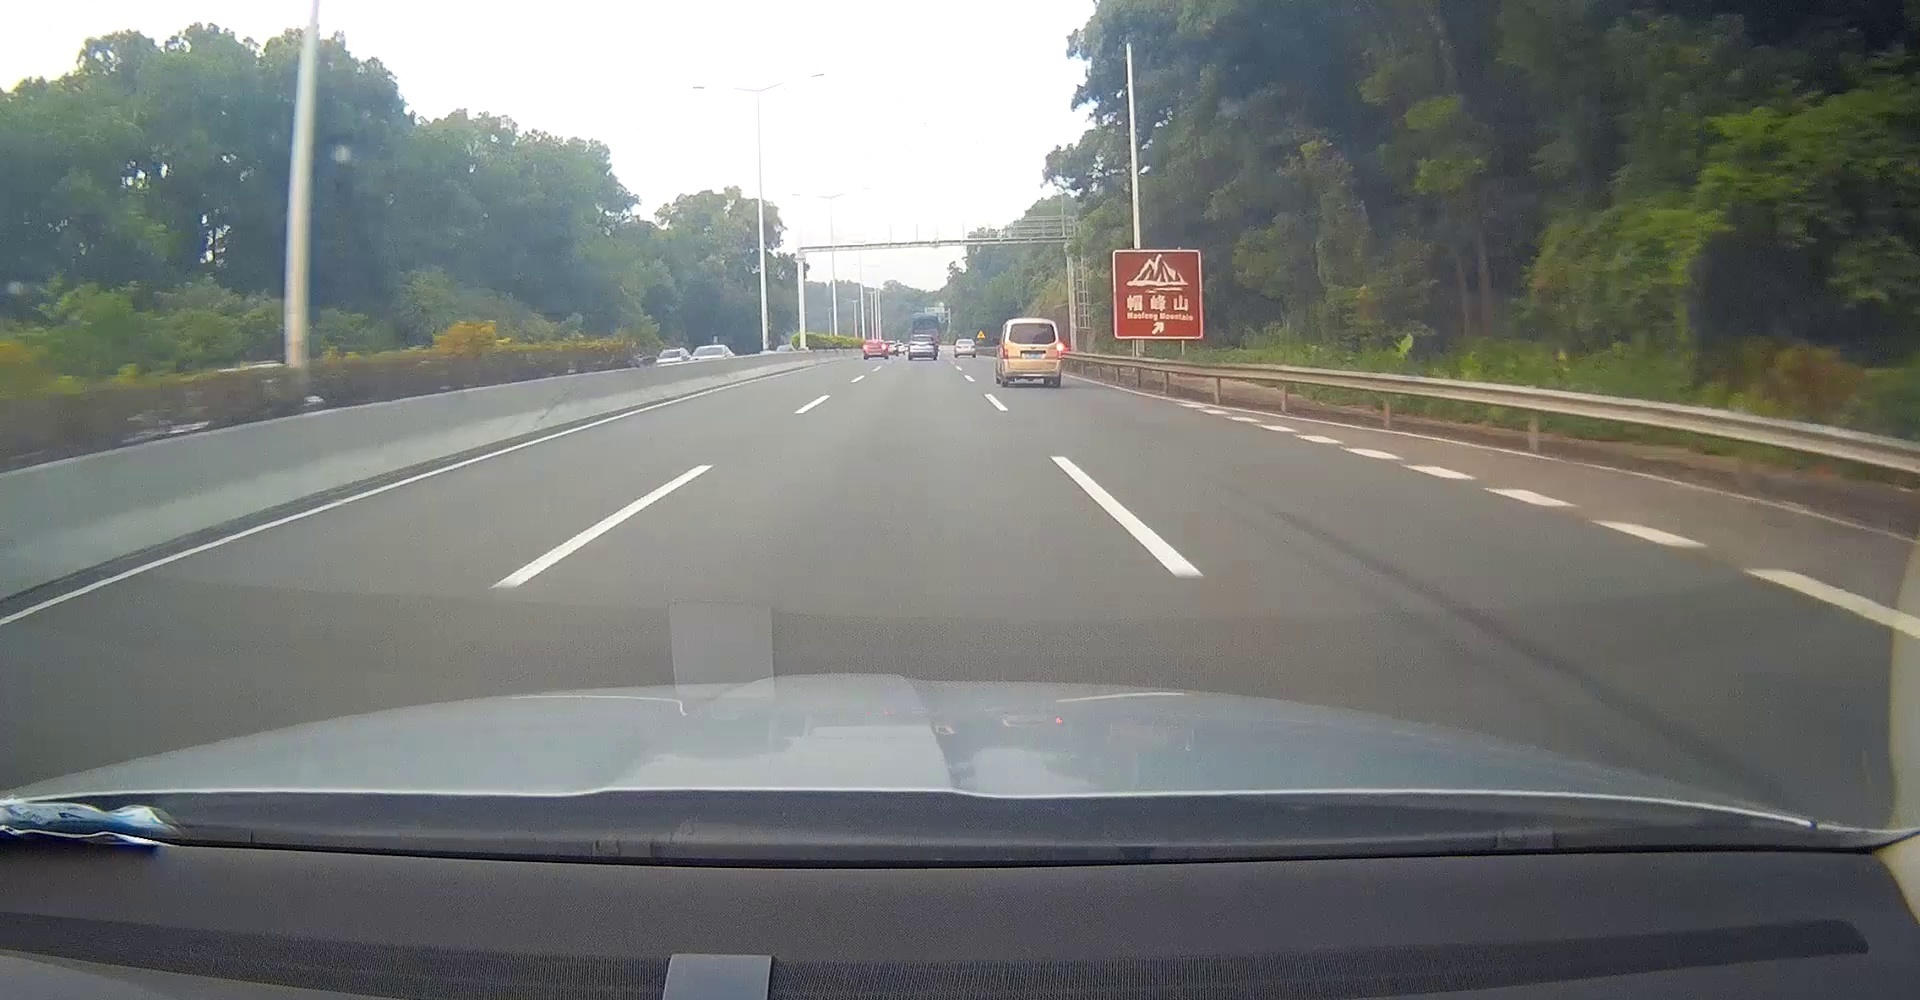L_light: (1003, 343, 1010, 359)
R_light: (1057, 343, 1063, 359)
T_light: (1027, 322, 1037, 326)
day-right: (1003, 319, 1063, 388)
